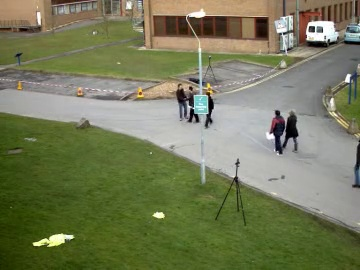person: (176, 82, 195, 122), (176, 82, 195, 121), (176, 84, 195, 122)
